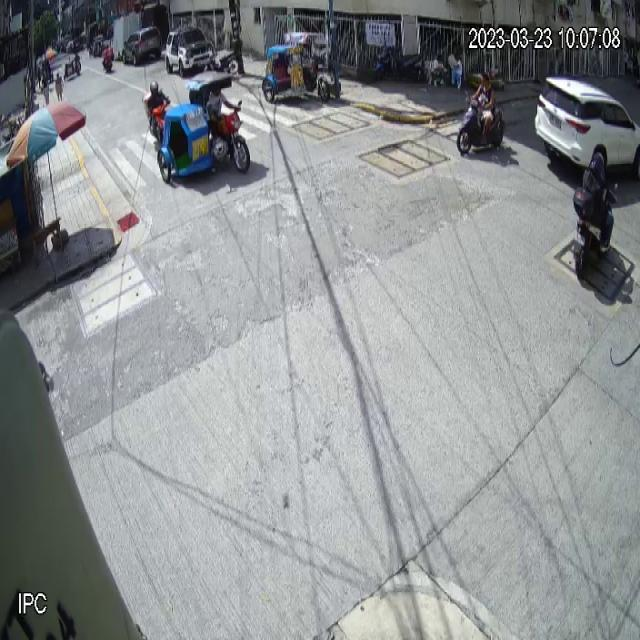Car: (534, 74, 640, 181)
Motorcycle: (571, 180, 622, 278), (457, 90, 505, 156)
Tricycle: (157, 71, 250, 183), (262, 30, 332, 104)
